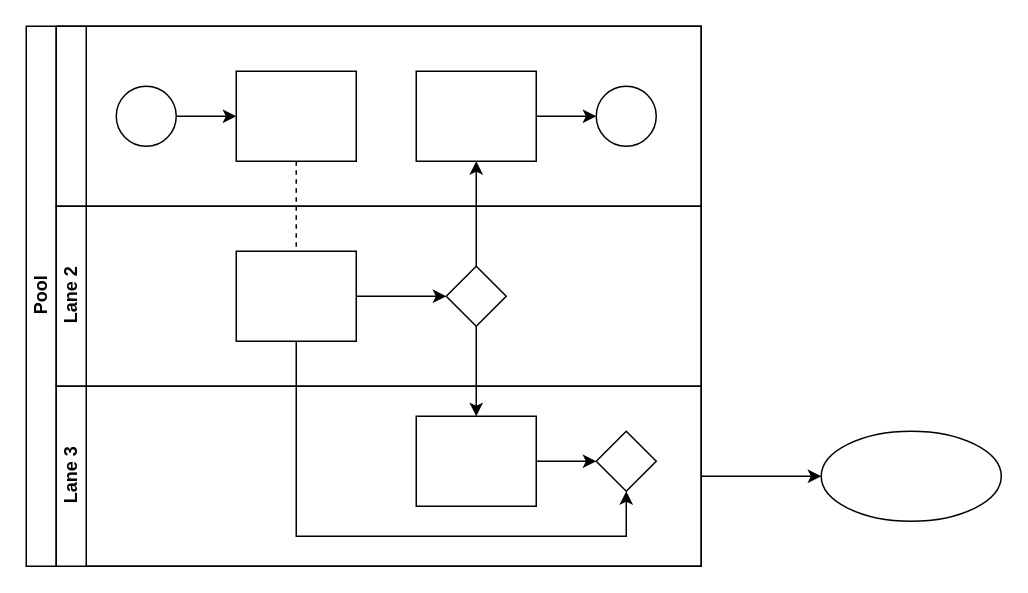
Some shapes in this 1028 by 593 pixel diagram are drawn without their labels. Here are the shapes that lost their labels. From the top down, the box of each, then its label:
(55, 25, 701, 206): Lane 1
(820, 430, 1001, 521): Pipe OUT
